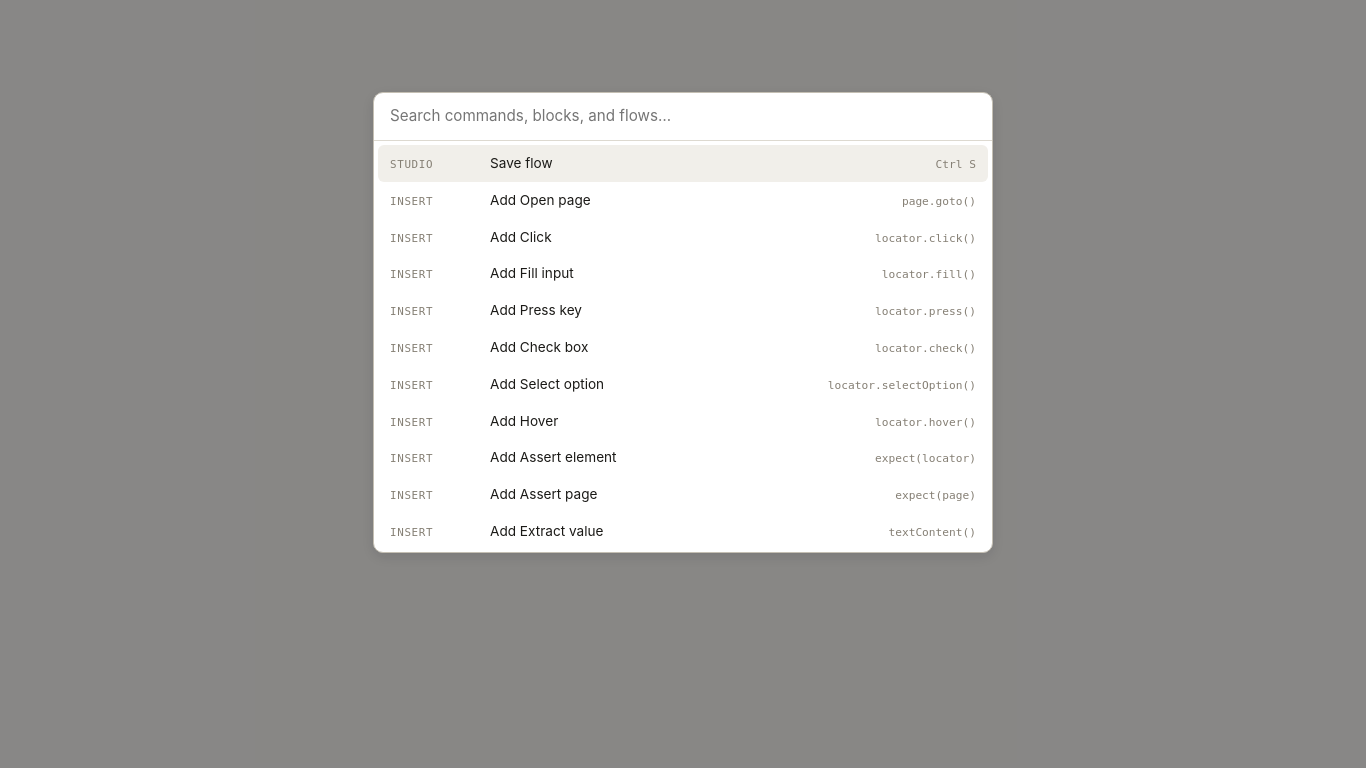
searching › says when nothing matches
Type "zzzzzz" into the field labelled "command" at [683, 117], box [374,93,992,141]
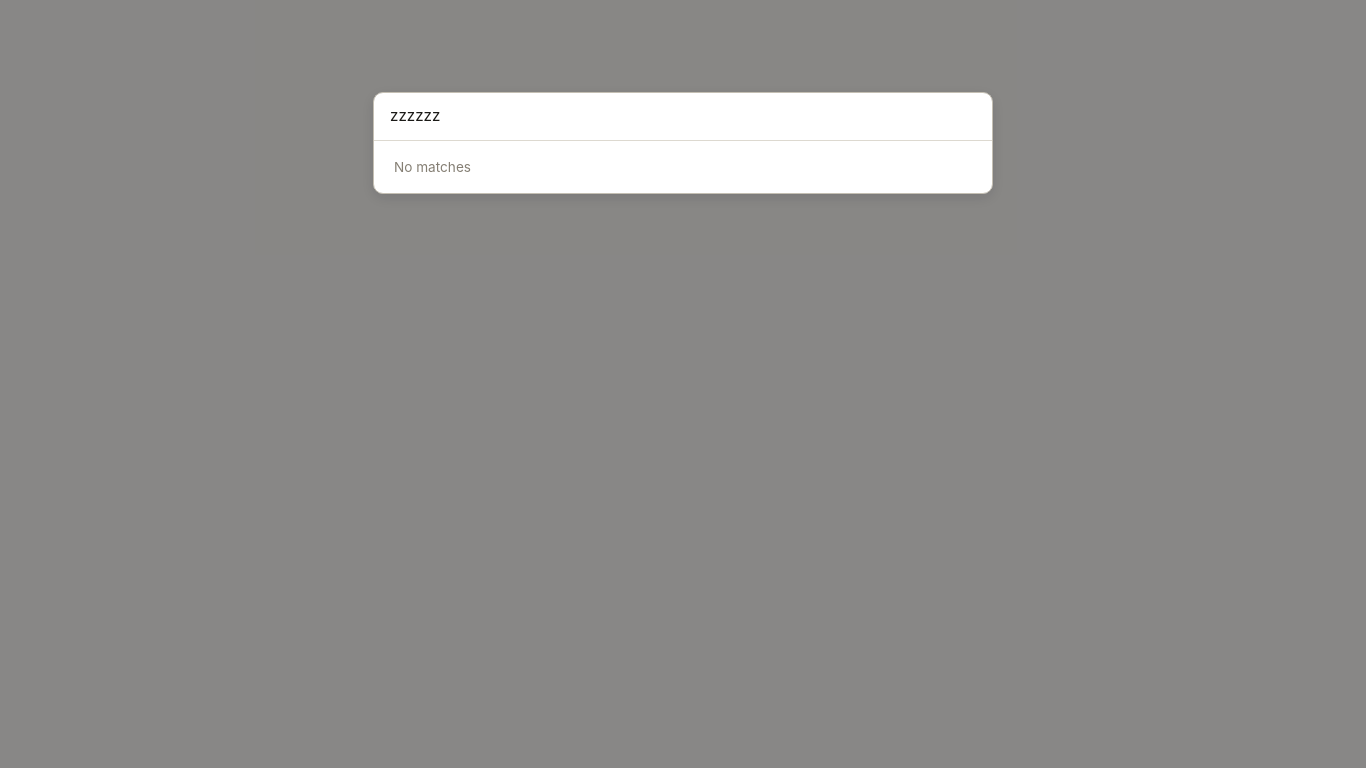
Check: the list item "No matches" is shown, box [394,159,471,175]
